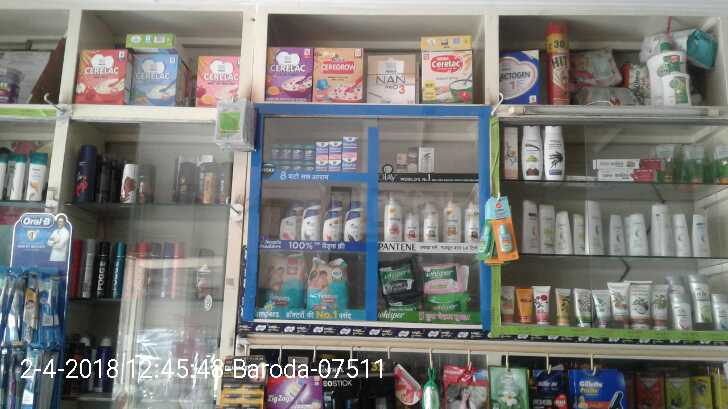vicks: (343, 138, 359, 155), (343, 155, 356, 173), (317, 156, 330, 171), (330, 138, 341, 154), (280, 144, 292, 157), (317, 139, 326, 156), (304, 143, 313, 159), (329, 154, 338, 169), (294, 145, 303, 158), (273, 144, 279, 159)
